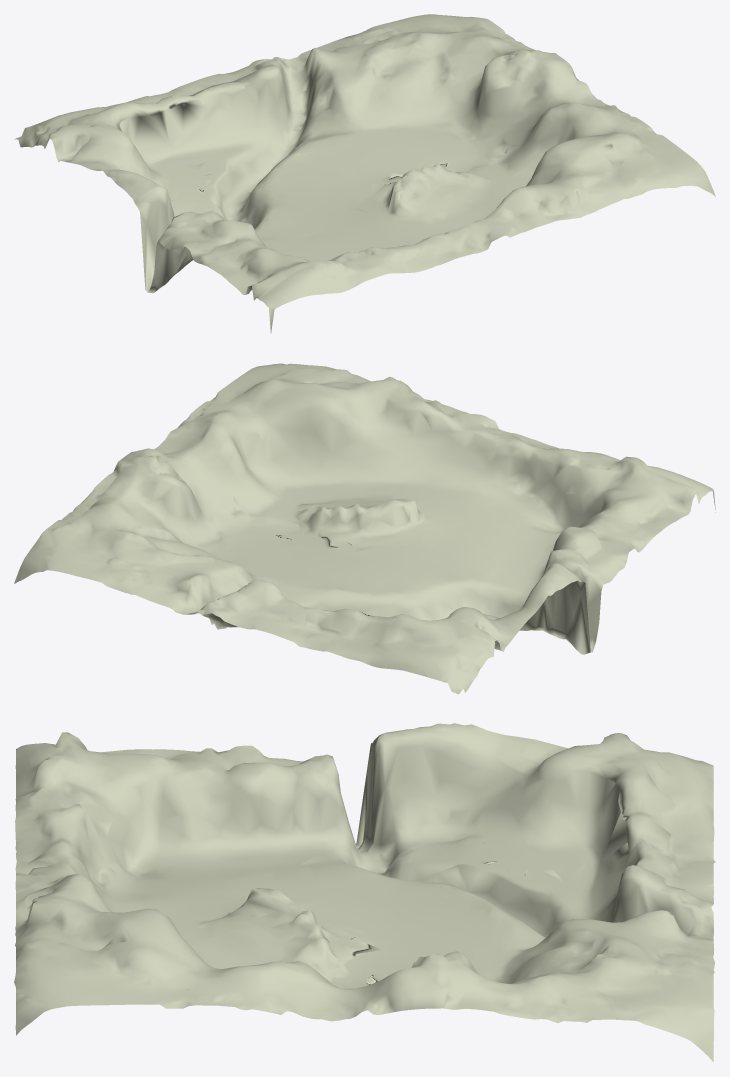
The model's file is alpine.dae.
The picture shows the model from 3 angles, top to bottom: view 1: azimuth 30°, elevation 25°; view 2: azimuth 150°, elevation 25°; view 3: azimuth 270°, elevation 25°; orthographic projection. The views are drawn at different scales.
Parts seen in each view (by area): view 1: Plane; view 2: Plane; view 3: Plane.
Boxes of the visible parts, box(x1,y1,x2,y2) form: Plane: box(14, 14, 715, 332); Plane: box(14, 363, 715, 694); Plane: box(14, 723, 715, 1061).
Bounding box in the file's own units: 157 × 157 × 40.21.
